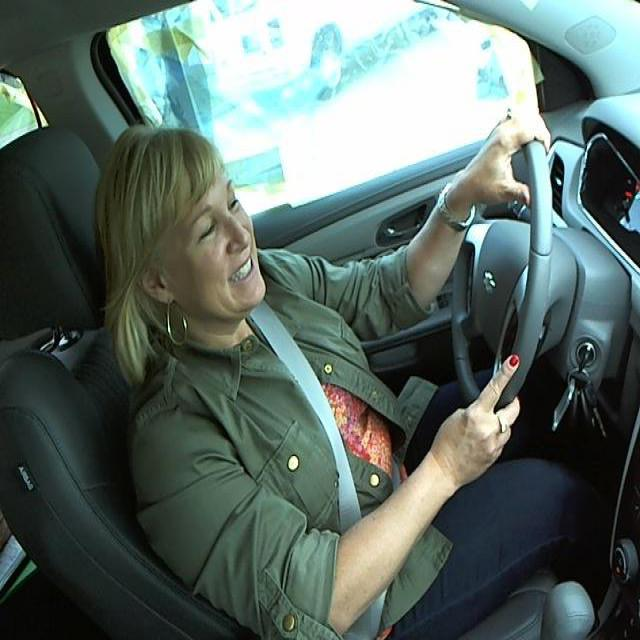seatbelt: (256, 315, 369, 513)
